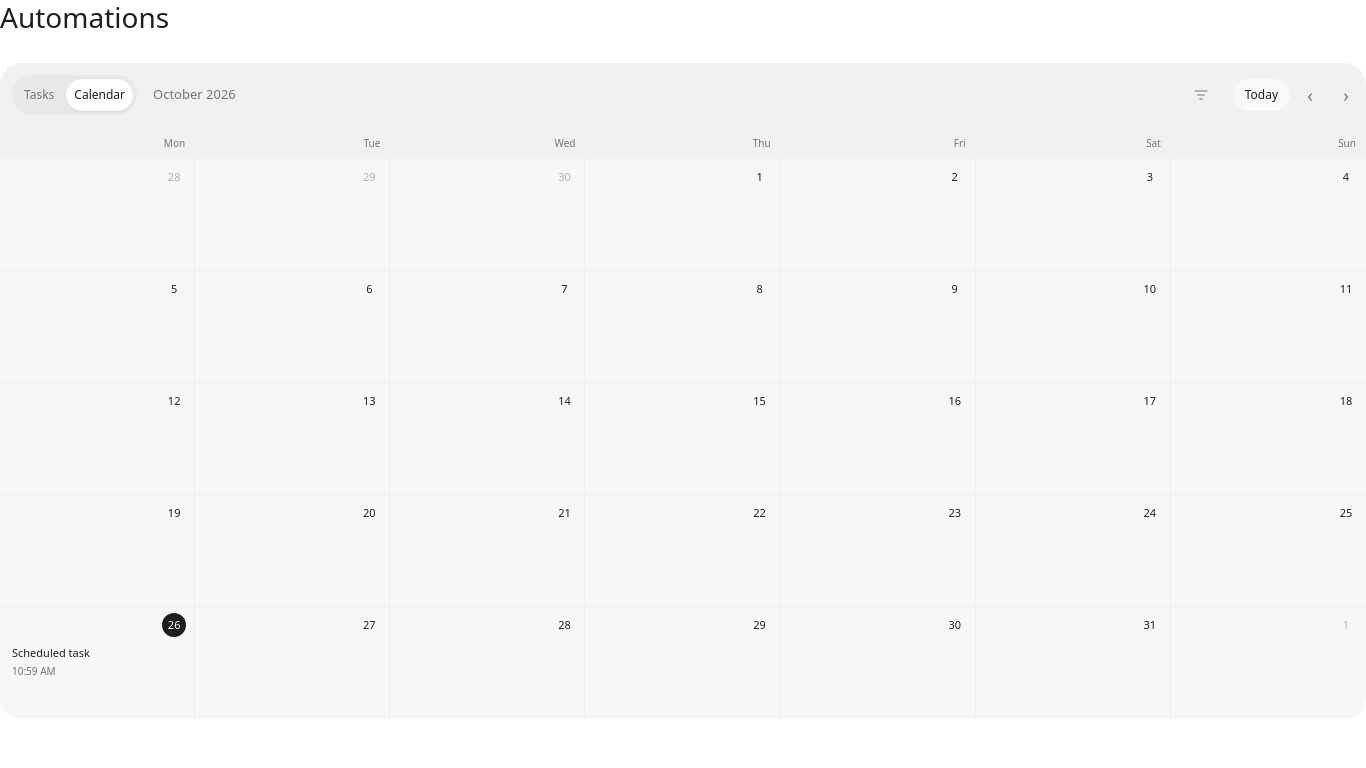
Scenario: automation channel identity › preserves the label for extension-chat
This screenshot has width=1366, height=768.
Click the button "Scheduled task 10:59 AM" at (97, 662), box [4,639,190,685]
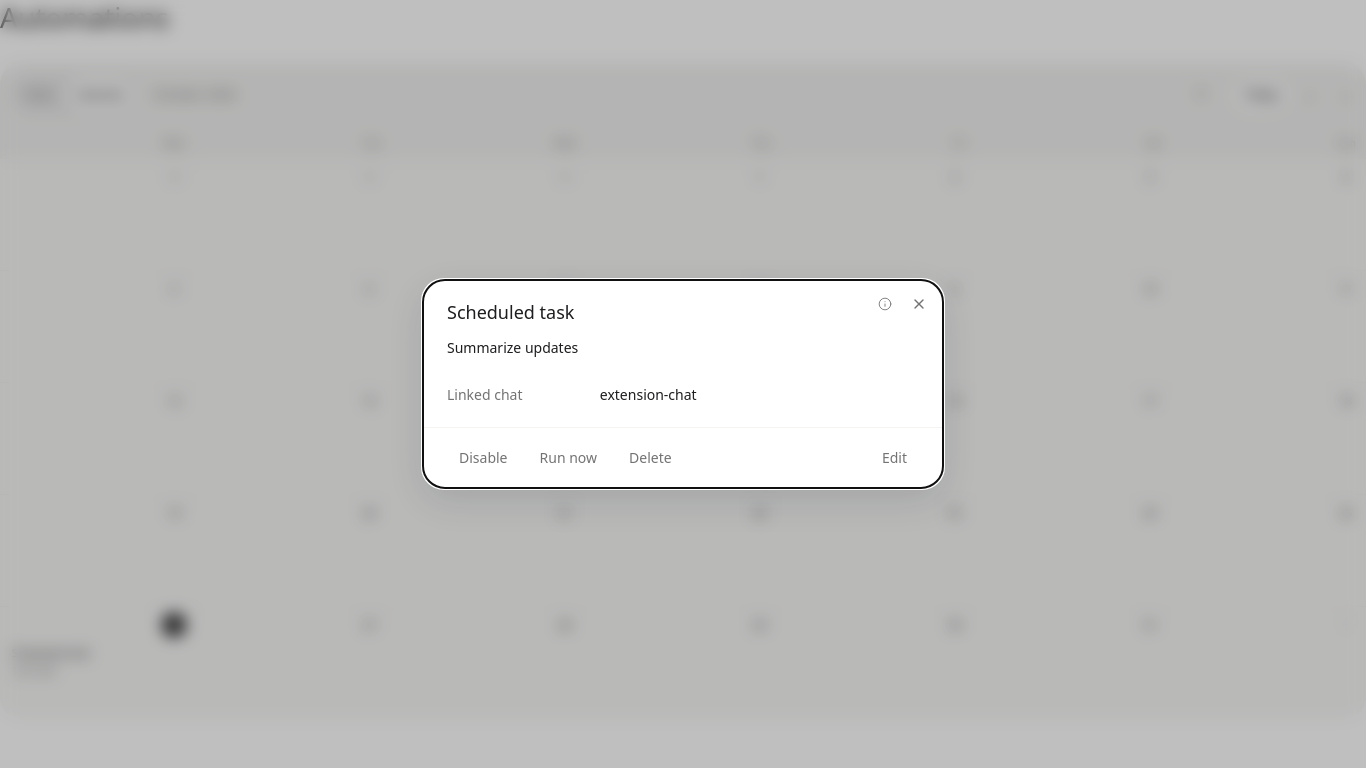
Check: the text "extension-chat" is shown, box [600,385,697,404]
